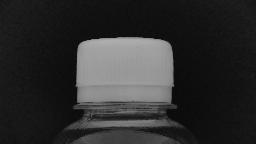Good Cap: (68, 34, 180, 114)
